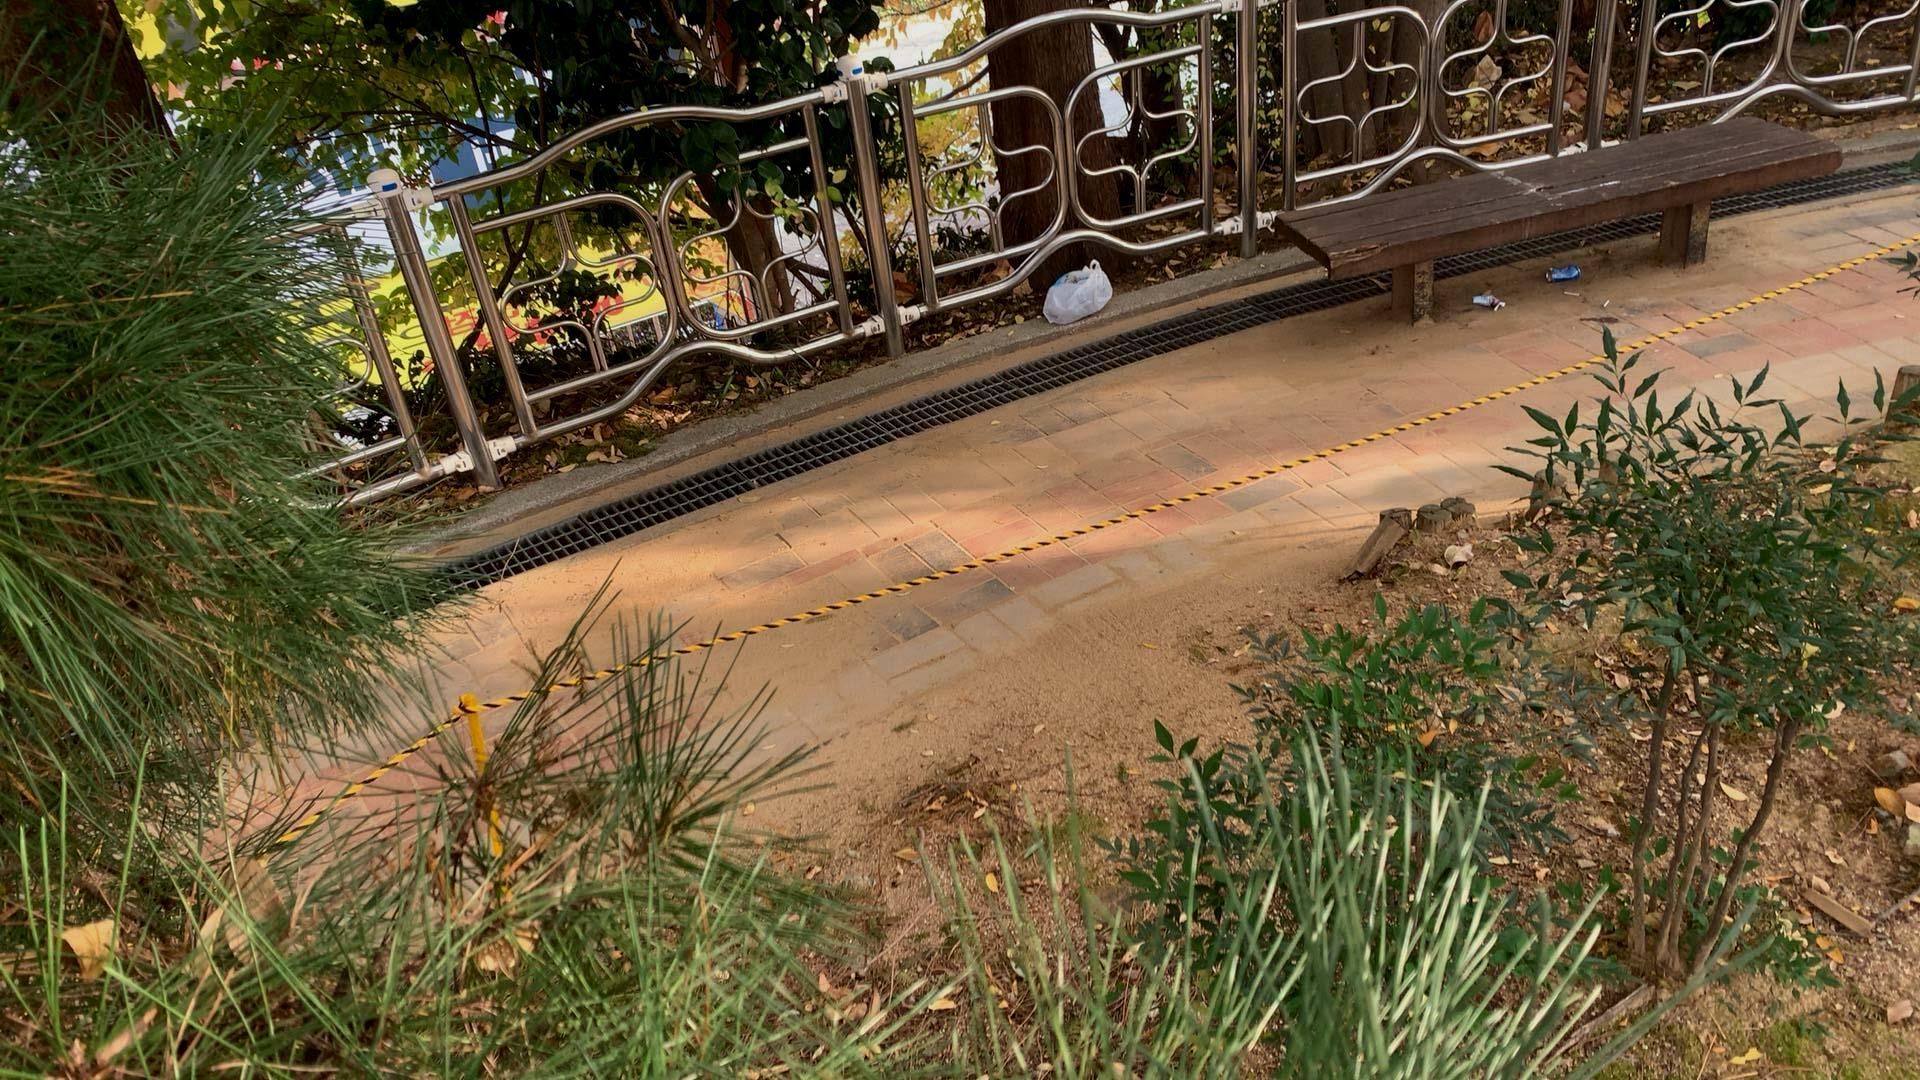white_bag: (1038, 255, 1117, 326)
